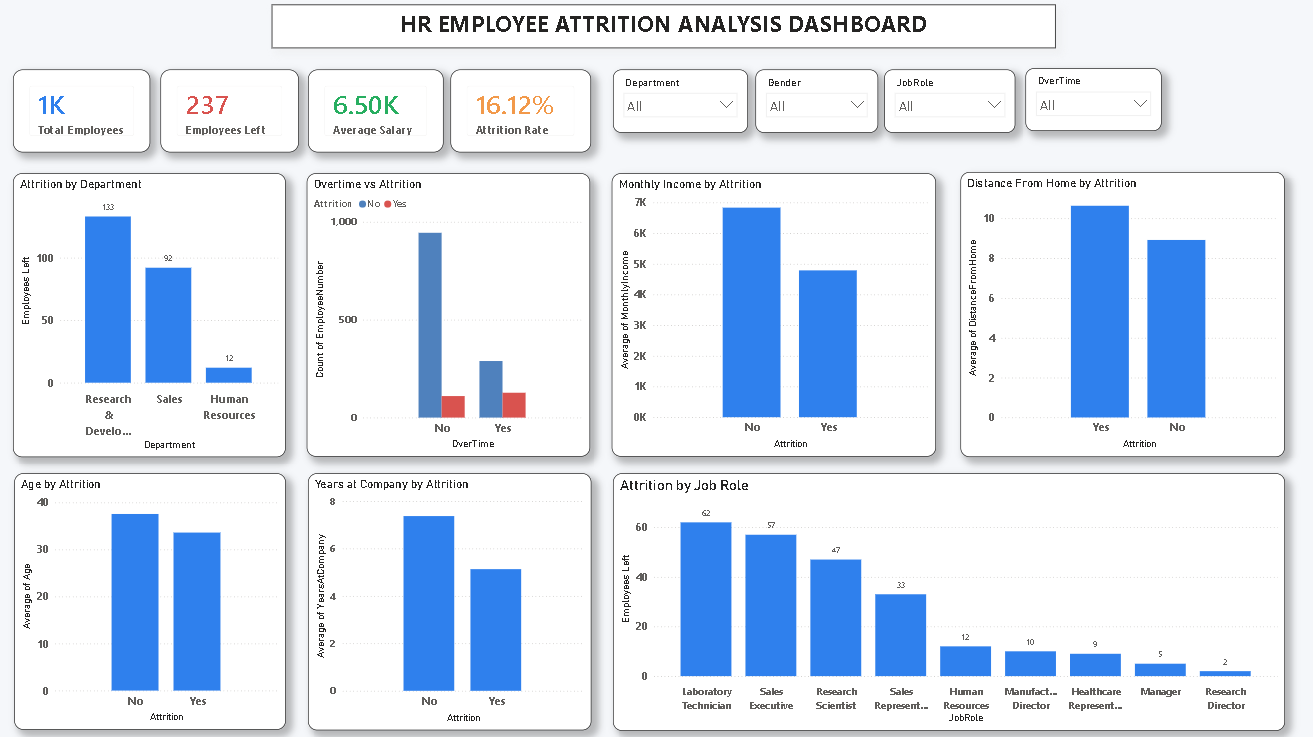

What the dashboard file says about the page in this screenshot:
{"tool":"powerbi","page":{"name":"dashboard hr","canvas":[1920,1080],"ordinal":0},"visuals":[{"type":"cardVisual","fields":{"Data":["KPI HR.Total Employees"]},"box":[58,110.8,196.2,118.3],"z":0},{"type":"cardVisual","fields":{"Data":["KPI HR.Employees Left"]},"box":[267.2,110.8,197.7,118.3],"z":1000},{"type":"cardVisual","fields":{"Data":["KPI HR.Average Salary"]},"box":[477.8,110.8,193.3,118.3],"z":2000},{"type":"cardVisual","fields":{"Data":["KPI HR.Attrition Rate"]},"box":[682.7,110.8,200.5,118.3],"z":3000},{"type":"clusteredColumnChart","title":"Attrition by Department","fields":{"Category":["cleaned_hr_attrition.Department"],"Y":["KPI HR.Employees Left"]},"box":[57.7,259.7,389.5,405.4],"z":4000},{"type":"clusteredColumnChart","title":"Overtime vs Attrition","fields":{"Category":["cleaned_hr_attrition.OverTime"],"Series":["cleaned_hr_attrition.Attrition"],"Y":["CountNonNull(cleaned_hr_attrition.EmployeeNumber)"]},"box":[476.7,258.3,405,405],"z":5000},{"type":"clusteredColumnChart","title":"Monthly Income by Attrition","fields":{"Category":["cleaned_hr_attrition.Attrition"],"Y":["Avg(cleaned_hr_attrition.MonthlyIncome)"]},"box":[913.3,259.7,463.1,404.7],"z":6000},{"type":"clusteredColumnChart","title":"Age by Attrition","fields":{"Category":["cleaned_hr_attrition.Attrition"],"Y":["Avg(cleaned_hr_attrition.Age)"]},"box":[58.3,688.3,388.3,366.7],"z":7000},{"type":"clusteredColumnChart","title":"Years at Company by Attrition","fields":{"Category":["cleaned_hr_attrition.Attrition"],"Y":["Avg(cleaned_hr_attrition.YearsAtCompany)"]},"box":[478,688,405,367],"z":8000},{"type":"clusteredColumnChart","title":"Attrition by Job Role","fields":{"Y":["KPI HR.Employees Left"],"Category":["cleaned_hr_attrition.JobRole"]},"box":[914,688,960,368],"z":9000},{"type":"clusteredColumnChart","title":"Distance From Home by Attrition","fields":{"Category":["cleaned_hr_attrition.Attrition"],"Y":["Avg(cleaned_hr_attrition.DistanceFromHome)"]},"box":[1411,257.5,463.1,406.9],"z":10000},{"type":"textbox","box":[427.5,17.5,1120,62.5],"z":11000},{"type":"slicer","fields":{"Values":["cleaned_hr_attrition.Department"]},"box":[915,110,192.5,90],"z":12000},{"type":"slicer","fields":{"Values":["cleaned_hr_attrition.Gender"]},"box":[1117.5,110,175,90],"z":13000},{"type":"slicer","fields":{"Values":["cleaned_hr_attrition.JobRole"]},"box":[1302.5,110,187.5,90],"z":14000},{"type":"slicer","fields":{"Values":["cleaned_hr_attrition.OverTime"]},"box":[1502.9,109.7,194.2,89.9],"z":15000}]}

Visuals, with their boxes in screenshot pixels (x1, y1, x2, y2), scaled from the page's 1920x1080 canvas onto the 1313x737 screenshot:
cardVisual - KPI HR.Total Employees: [40,76,174,156]
cardVisual - KPI HR.Employees Left: [183,76,318,156]
cardVisual - KPI HR.Average Salary: [327,76,459,156]
cardVisual - KPI HR.Attrition Rate: [467,76,604,156]
"Attrition by Department" clusteredColumnChart: [39,177,306,454]
"Overtime vs Attrition" clusteredColumnChart: [326,176,603,453]
"Monthly Income by Attrition" clusteredColumnChart: [625,177,941,453]
"Age by Attrition" clusteredColumnChart: [40,470,305,720]
"Years at Company by Attrition" clusteredColumnChart: [327,469,604,720]
"Attrition by Job Role" clusteredColumnChart: [625,469,1282,721]
"Distance From Home by Attrition" clusteredColumnChart: [965,176,1282,453]
textbox: [292,12,1058,55]
slicer - cleaned_hr_attrition.Department: [626,75,757,136]
slicer - cleaned_hr_attrition.Gender: [764,75,884,136]
slicer - cleaned_hr_attrition.JobRole: [891,75,1019,136]
slicer - cleaned_hr_attrition.OverTime: [1028,75,1161,136]
